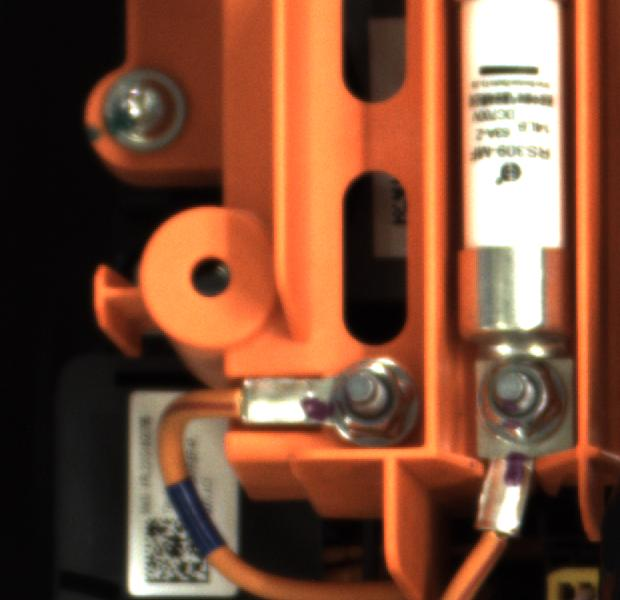screw_m: (95, 68, 196, 153)
screw_s: (466, 343, 568, 456), (322, 349, 422, 447)
